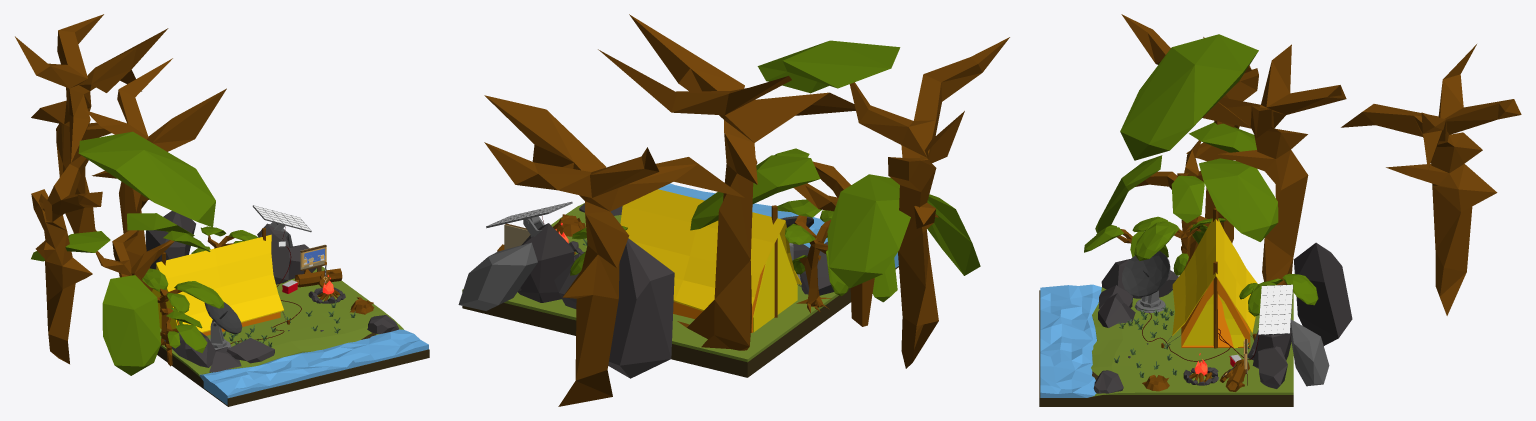
The model's file is camp_simple_export3.glb.
3 views of the same model, side by side, from view 1: azimuth 30°, elevation 25°; view 2: azimuth 150°, elevation 25°; view 3: azimuth 270°, elevation 25° (orthographic). The views are drawn at different scales.
Parts seen in each view (by area): view 1: Small Tree 2.003, Small Tree 2.002, Big Tree.001, Tent-main.001, Rock2.007, Rock2.003, Big Tree, Rock2.005, Rock_1.004, Small Tree Leaves 1, Rock2.001, Small Tree 2.001 (+9 smaller); view 2: Big Tree.001, Small Tree 2.003, Big Tree, Small Tree 2.002, Tent-main.001, Rock2.006, Rock2.007, Rock.001, Rock2.005, Rock2.001, Tent-main.002, Small Tree Leaves 1 (+7 smaller); view 3: Big Tree.001, Small Tree 2.003, Big Tree, Small Tree 2.002, Rock2.007, Rock2.003, Tent-main.001, Rock2.006, Rock2.005, Rock_1.004, Small Tree Leaves 1, Rock.001 (+12 smaller).
Boxes of the visible parts, x1=… form: Small Tree 2.003: x1=31, y1=131, x2=215, y2=364; Small Tree 2.002: x1=31, y1=213, x2=210, y2=375; Big Tree.001: x1=15, y1=14, x2=168, y2=233; Tent-main.001: x1=152, y1=234, x2=283, y2=332; Rock2.007: x1=160, y1=266, x2=403, y2=376; Rock2.003: x1=199, y1=329, x2=428, y2=405; Big Tree: x1=85, y1=58, x2=226, y2=291; Rock2.005: x1=157, y1=349, x2=429, y2=406; Rock_1.004: x1=164, y1=331, x2=274, y2=372; Small Tree Leaves 1: x1=141, y1=268, x2=223, y2=324; Rock2.001: x1=260, y1=223, x2=316, y2=284; Small Tree 2.001: x1=160, y1=310, x2=207, y2=366; Big Tree.001: x1=484, y1=95, x2=744, y2=406; Small Tree 2.003: x1=757, y1=37, x2=1009, y2=368; Big Tree: x1=598, y1=14, x2=855, y2=350; Small Tree 2.002: x1=690, y1=148, x2=980, y2=326; Tent-main.001: x1=620, y1=189, x2=801, y2=310; Rock2.006: x1=608, y1=238, x2=674, y2=378; Rock2.007: x1=462, y1=203, x2=838, y2=362; Rock.001: x1=458, y1=242, x2=537, y2=310; Rock2.005: x1=462, y1=266, x2=898, y2=377; Rock2.001: x1=518, y1=223, x2=579, y2=308; Tent-main.002: x1=753, y1=234, x2=797, y2=332; Small Tree Leaves 1: x1=777, y1=199, x2=848, y2=296; Big Tree.001: x1=1341, y1=44, x2=1521, y2=315; Small Tree 2.003: x1=1120, y1=14, x2=1258, y2=243; Big Tree: x1=1202, y1=44, x2=1346, y2=284; Small Tree 2.002: x1=1095, y1=122, x2=1278, y2=260; Rock2.007: x1=1091, y1=287, x2=1293, y2=396; Rock2.003: x1=1040, y1=284, x2=1101, y2=397; Tent-main.001: x1=1172, y1=219, x2=1257, y2=335; Rock2.006: x1=1294, y1=242, x2=1352, y2=345; Rock2.005: x1=1039, y1=398, x2=1293, y2=406; Rock_1.004: x1=1098, y1=259, x2=1178, y2=327; Small Tree Leaves 1: x1=1132, y1=216, x2=1226, y2=275; Rock.001: x1=1290, y1=319, x2=1329, y2=386.
Bounding box in the file's own units: 12.49 × 9.08 × 15.17.
